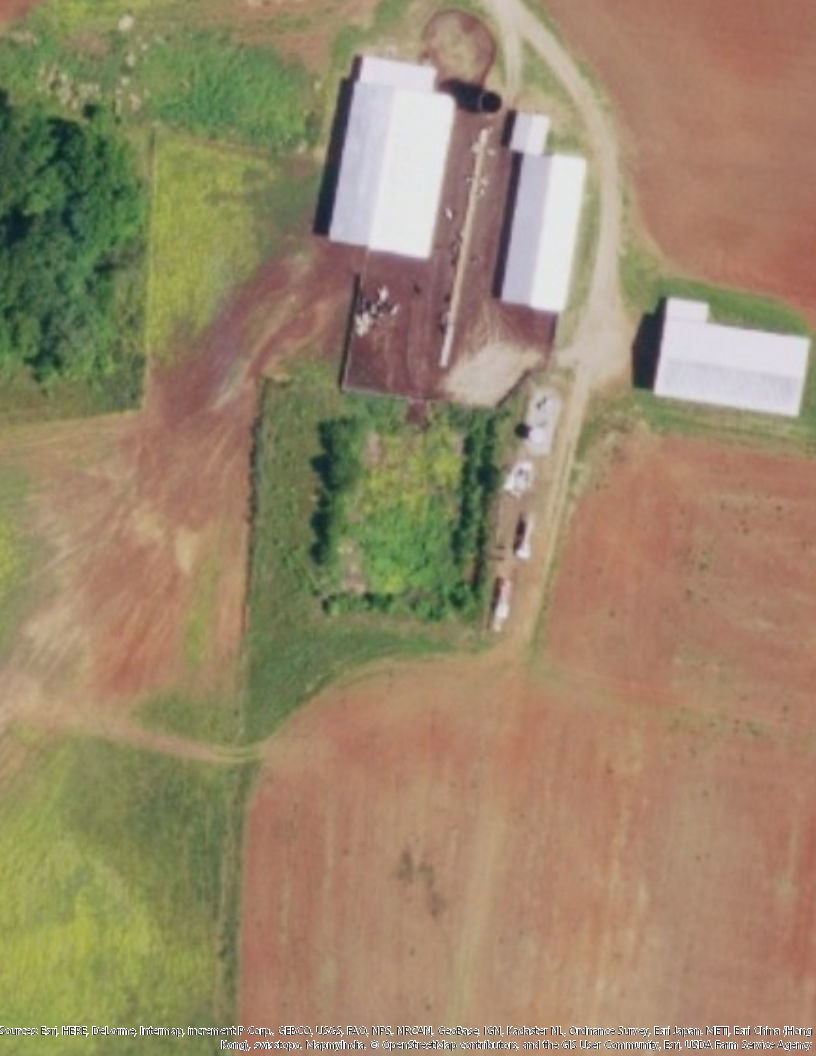cafo: (321, 56, 461, 265), (645, 293, 811, 428), (490, 155, 590, 313)
